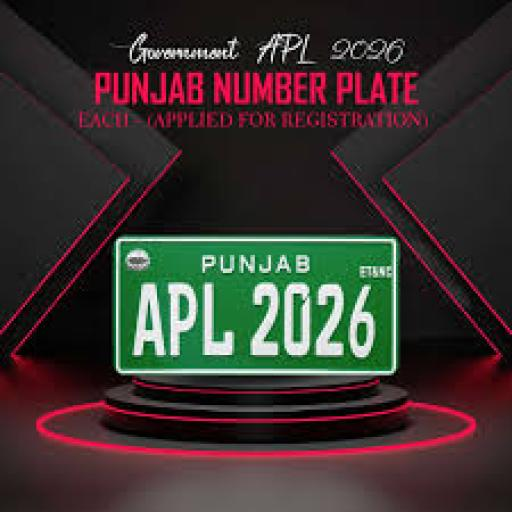0: (286, 290, 312, 348)
2: (314, 287, 346, 358), (253, 277, 279, 364)
6: (353, 282, 380, 371)
A: (131, 286, 164, 356)
L: (199, 281, 235, 355)
P: (169, 279, 195, 356)
